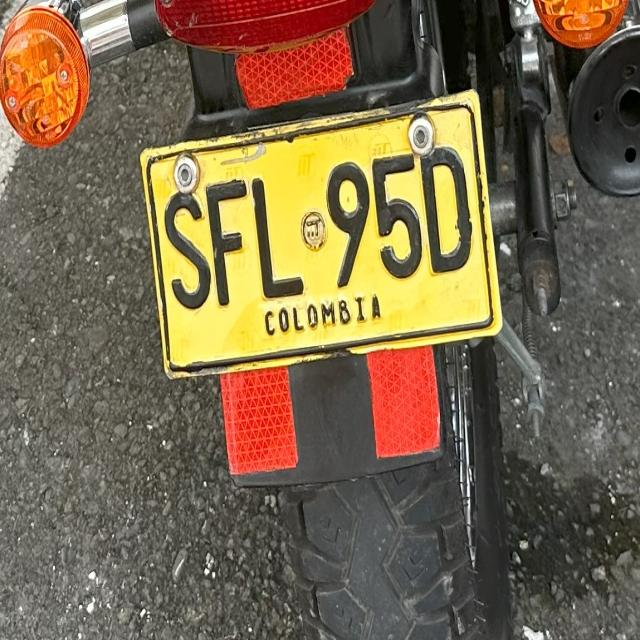number plate: (140, 89, 500, 374), (0, 5, 89, 146)
